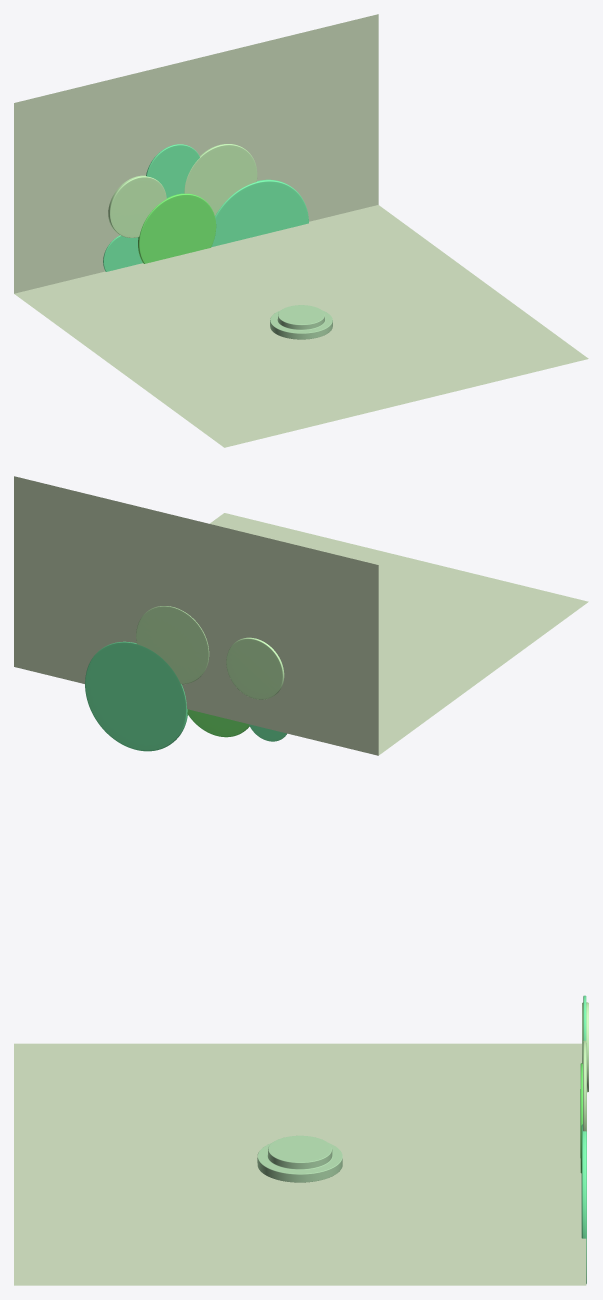
The model's file is Podium.fbx.
3 views of the same model, one above another, from view 1: azimuth 30°, elevation 25°; view 2: azimuth 150°, elevation 25°; view 3: azimuth 270°, elevation 25° (orthographic). The views are drawn at different scales.
Parts seen in each view (by area): view 1: Plane, Circle.003, Circle.006, Circle.002, Circle.005, Circle, Circle.004, Circle.001; view 2: Plane, Circle.003, Circle.002, Circle.005, Circle.006; view 3: Plane, Circle, Circle.003.
Boxes of the visible parts, x1,y1,x2,y2 form: Plane: [14, 14, 588, 447]; Circle.003: [211, 179, 308, 247]; Circle.006: [138, 193, 216, 263]; Circle.002: [184, 144, 257, 215]; Circle.005: [108, 175, 166, 237]; Circle: [270, 305, 332, 339]; Circle.004: [146, 144, 199, 197]; Circle.001: [103, 235, 142, 271]; Plane: [14, 476, 588, 755]; Circle.003: [85, 641, 187, 751]; Circle.002: [136, 606, 209, 684]; Circle.005: [226, 637, 284, 699]; Circle.006: [187, 709, 249, 737]; Plane: [14, 1043, 586, 1285]; Circle: [257, 1135, 342, 1182]; Circle.003: [581, 1124, 586, 1283].
Size of the model in its own units: 2000 by 1280 by 2009.
